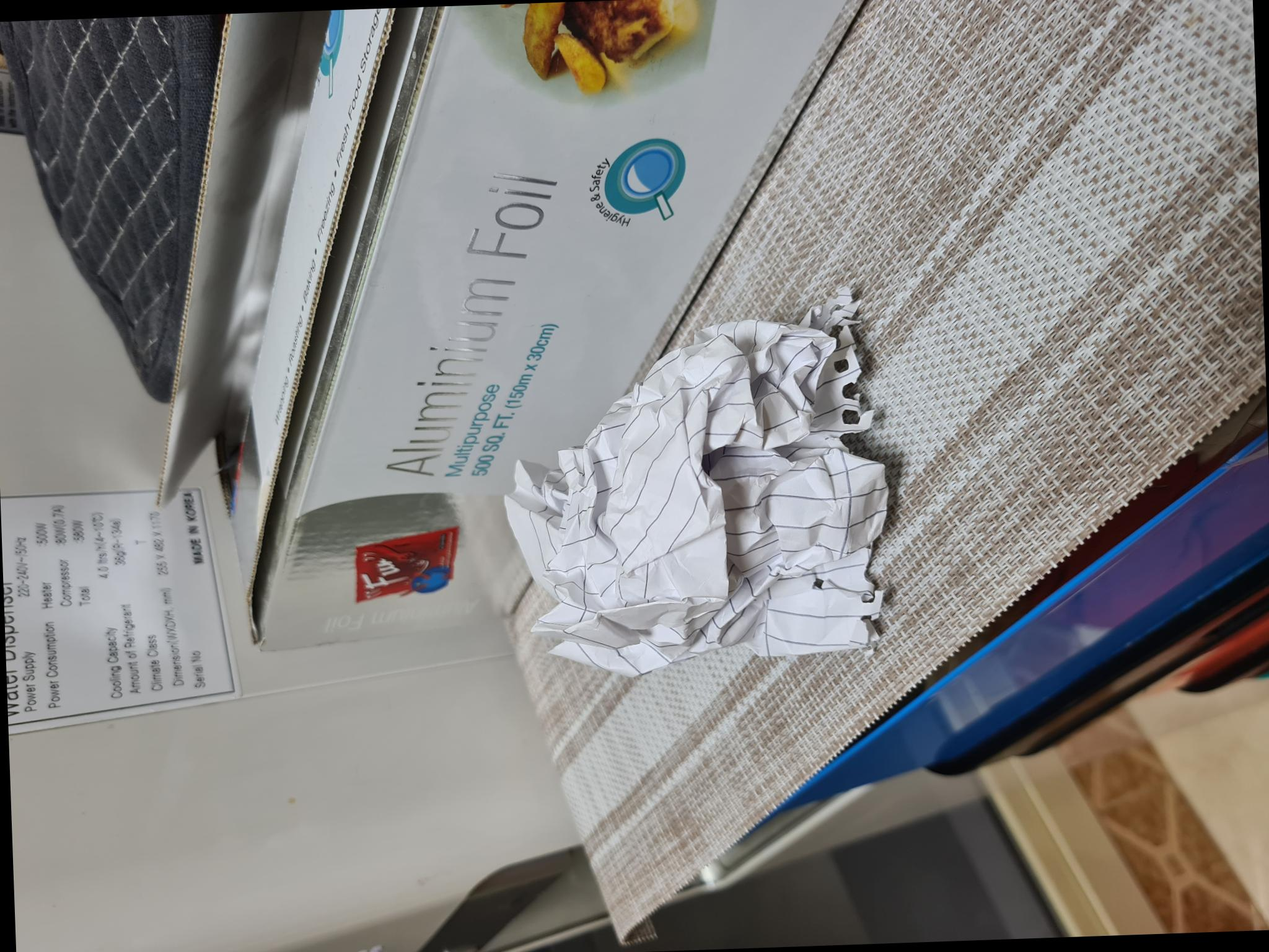Kertas: (260, 515, 647, 912)
